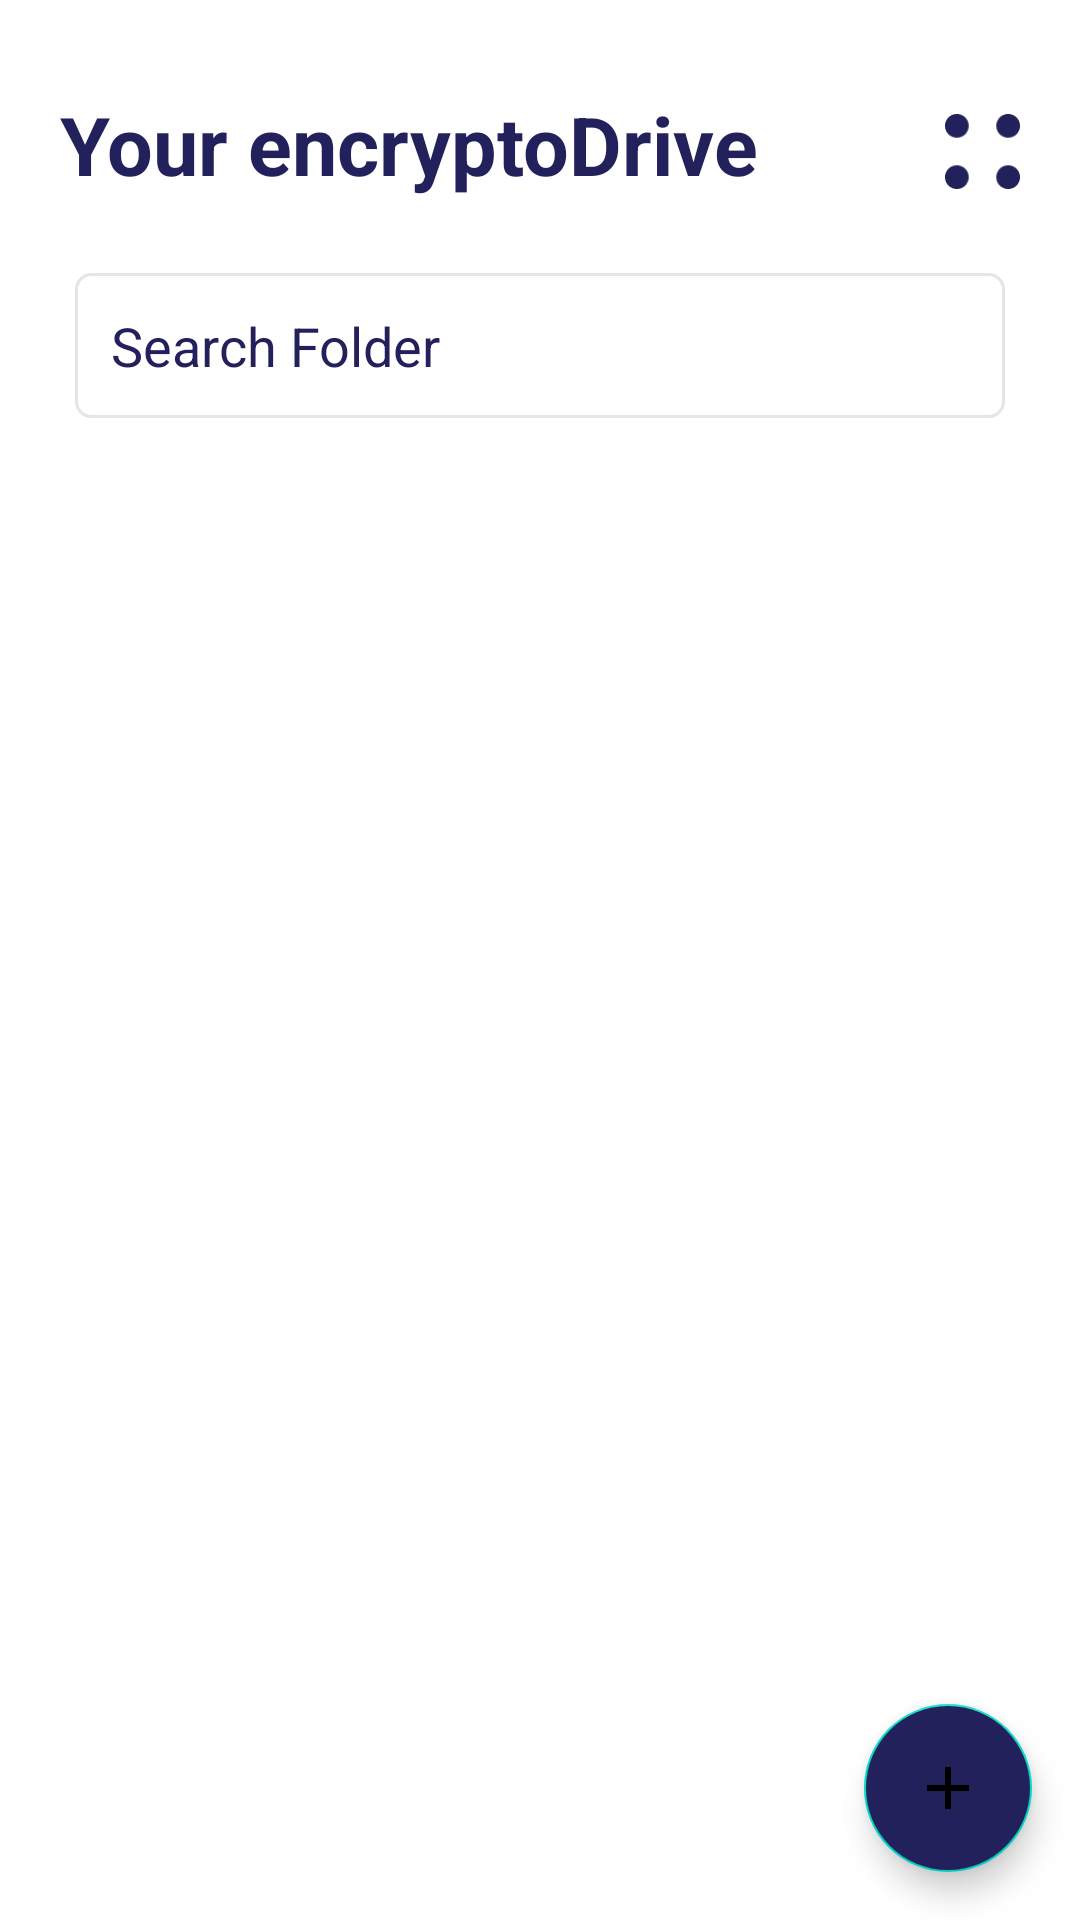

Where to tap for icons on this 1080x1920 app screen, as [x,y]:
fab add folder: [948,1788]
